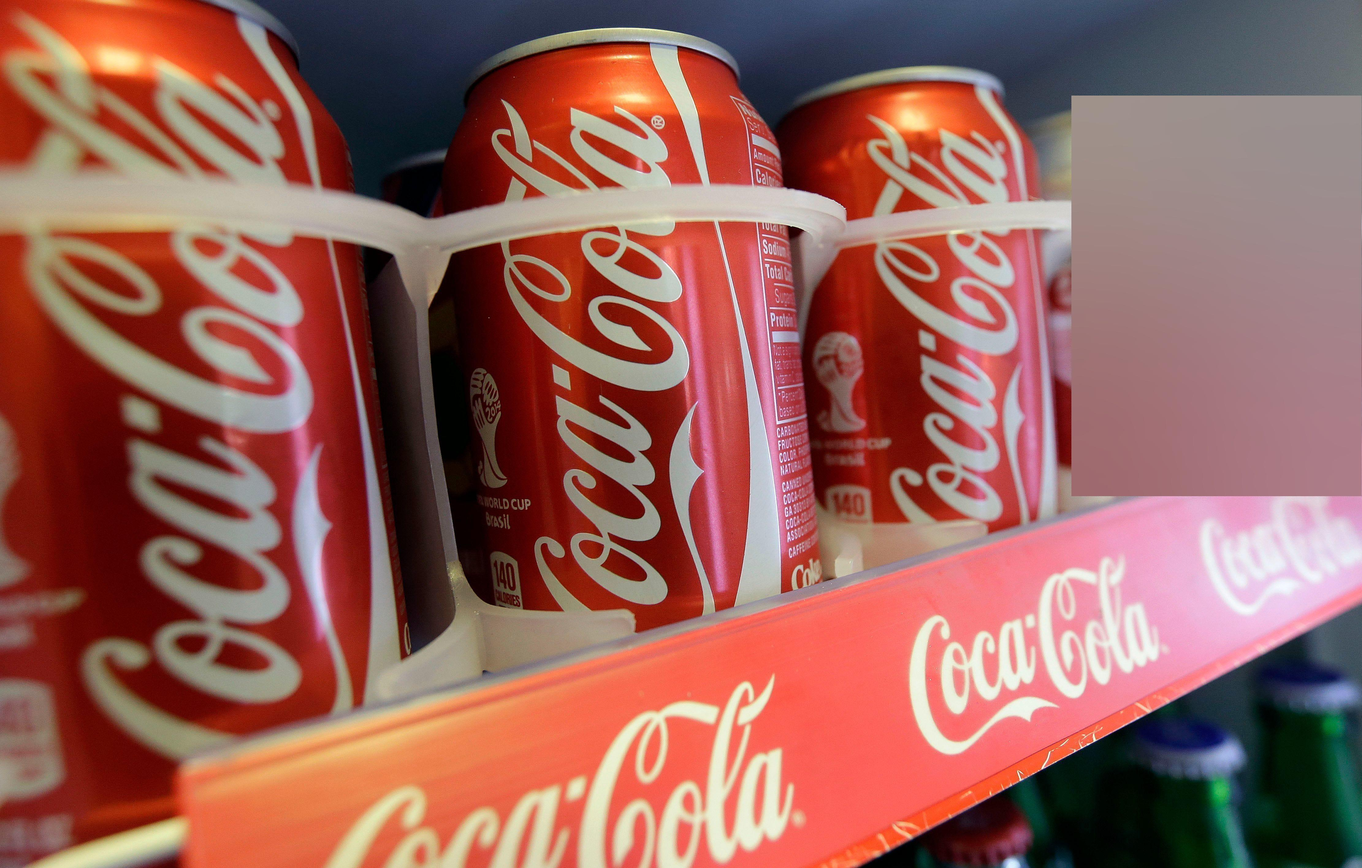tin can: (0, 0, 402, 829), (429, 27, 822, 625), (778, 60, 1069, 535)
